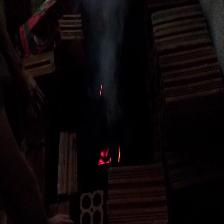smoke: (88, 5, 120, 116)
